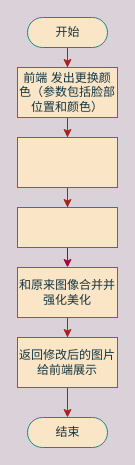
This 135x465 diagram has some shape labels left out. Each missing label, with the centre of its shape:
"打开MASK文件" belongs at point 67,162.
"更换MASK里脸部对应部分的颜色" belongs at point 67,227.
